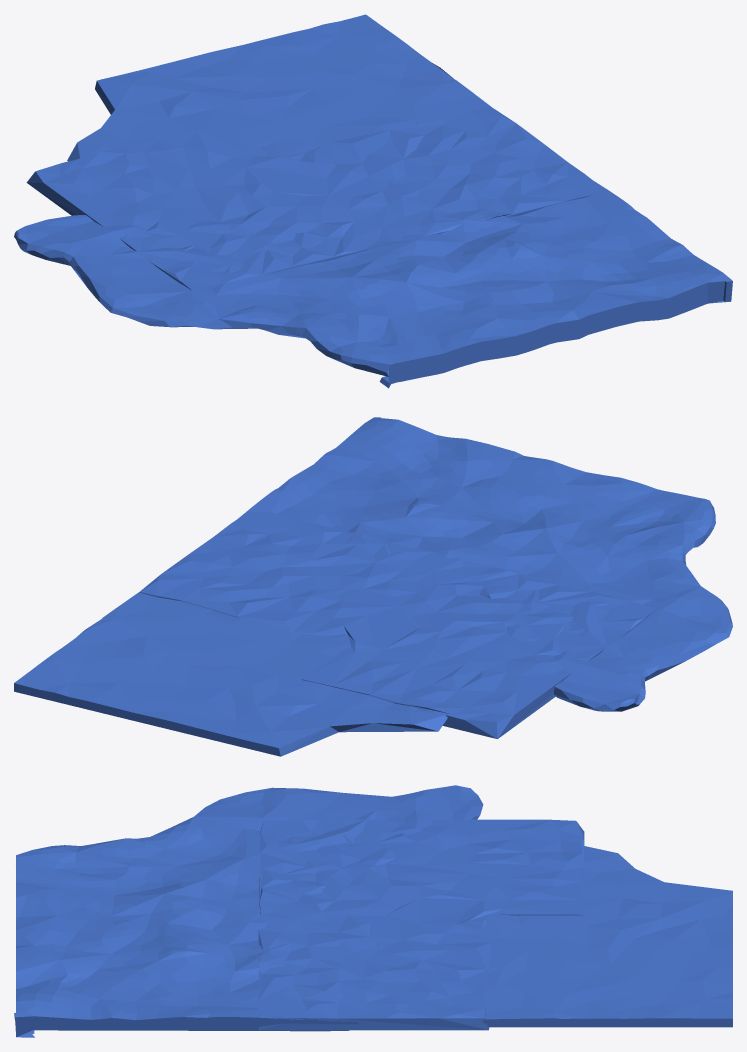
File: level_5_flood_stage3_model.fbx
3 views of the same model, one above another, from view 1: azimuth 30°, elevation 25°; view 2: azimuth 150°, elevation 25°; view 3: azimuth 270°, elevation 25° (orthographic). The views are drawn at different scales.
Visible parts, largest first — view 1: BezierCurve.001; view 2: BezierCurve.001; view 3: BezierCurve.001.
Part boxes in pixels (x1,y1,x2,y2): BezierCurve.001: [14, 14, 732, 388]; BezierCurve.001: [14, 417, 732, 756]; BezierCurve.001: [14, 785, 732, 1037].
Size of the model in its own units: 389 by 21.88 by 503.
